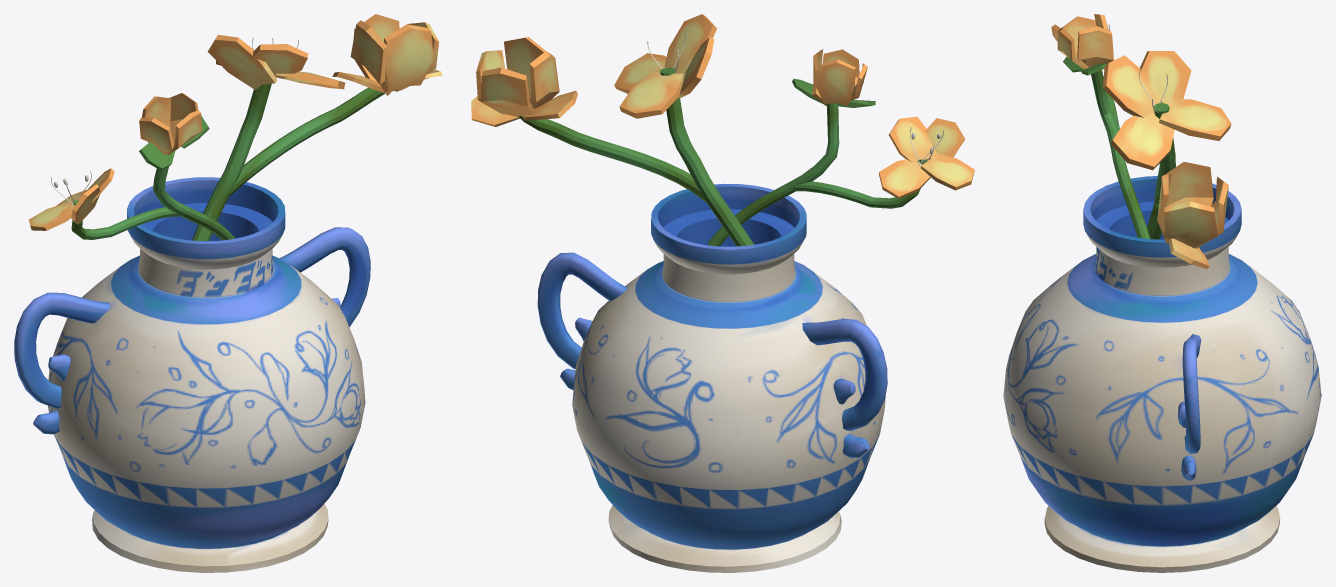
Rendered from PickUp_Jarron.fbx.
3 renders of one model, left to right at view 1: azimuth 30°, elevation 25°; view 2: azimuth 150°, elevation 25°; view 3: azimuth 270°, elevation 25°, orthographic.
Parts seen in each view (by area): view 1: Jarron, Asa2, Asa1, Flor12, Rama1.001, Rama1, Flor4, Flor9, Rama2.001, Flor3, Rama2, Flor11.001 (+8 smaller); view 2: Jarron, Asa1, Asa2, Rama1.001, Rama1, Rama2.001, Flor10, Flor1, Flor3, Flor12.001, Flor3.001, Flor2.001 (+10 smaller); view 3: Jarron, Flor2, Flor3, Flor1, Flor11, Rama2.001, Flor4, Asa1, Flor9, Flor9.001, Rama1.001, Flor14 (+4 smaller).
Boxes of the visible parts, <box> form: Jarron: <box>48,177,365,572</box>; Asa2: <box>14,292,109,408</box>; Asa1: <box>279,227,370,327</box>; Flor12: <box>384,24,433,92</box>; Rama1.001: <box>192,83,271,241</box>; Rama1: <box>228,78,385,196</box>; Flor4: <box>207,34,277,89</box>; Flor9: <box>350,20,390,95</box>; Rama2.001: <box>153,166,234,240</box>; Flor3: <box>249,44,308,78</box>; Rama2: <box>71,200,181,239</box>; Flor11.001: <box>139,117,174,154</box>; Jarron: <box>572,183,885,572</box>; Asa1: <box>537,252,627,369</box>; Asa2: <box>802,318,887,430</box>; Rama1.001: <box>660,67,753,246</box>; Rama1: <box>518,116,706,202</box>; Rama2.001: <box>708,103,839,246</box>; Flor10: <box>480,67,534,116</box>; Flor1: <box>619,71,683,118</box>; Flor3: <box>664,14,716,79</box>; Flor12.001: <box>816,59,855,105</box>; Flor3.001: <box>888,116,937,162</box>; Flor2.001: <box>879,159,930,198</box>; Jarron: <box>1003,176,1321,572</box>; Flor2: <box>1111,113,1174,170</box>; Flor3: <box>1103,55,1163,117</box>; Flor1: <box>1159,99,1231,140</box>; Flor11: <box>1163,201,1217,248</box>; Rama2.001: <box>1091,69,1150,239</box>; Flor4: <box>1140,51,1191,99</box>; Asa1: <box>1182,334,1201,453</box>; Flor9: <box>1161,162,1213,206</box>; Flor9.001: <box>1077,26,1113,71</box>; Rama1.001: <box>1147,103,1175,239</box>; Flor14: <box>1168,238,1209,268</box>.
Size of the model in its own units: 448 by 455 by 270.
1 material, 1 textured.
